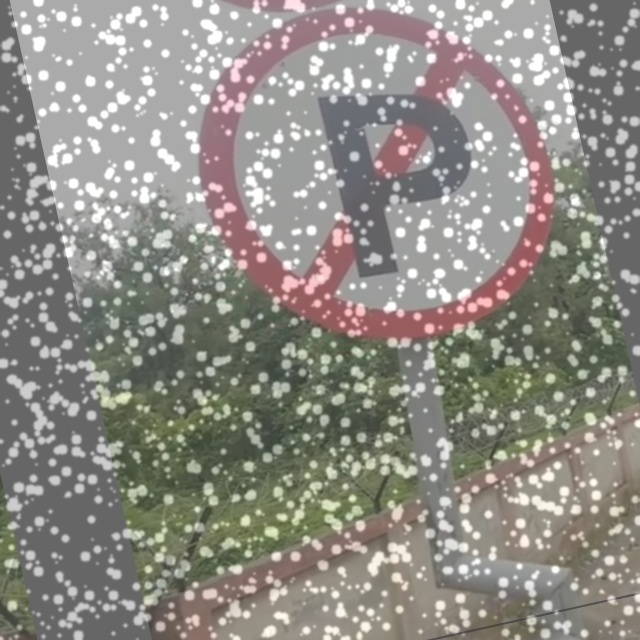No_Parking: (181, 1, 575, 368)
